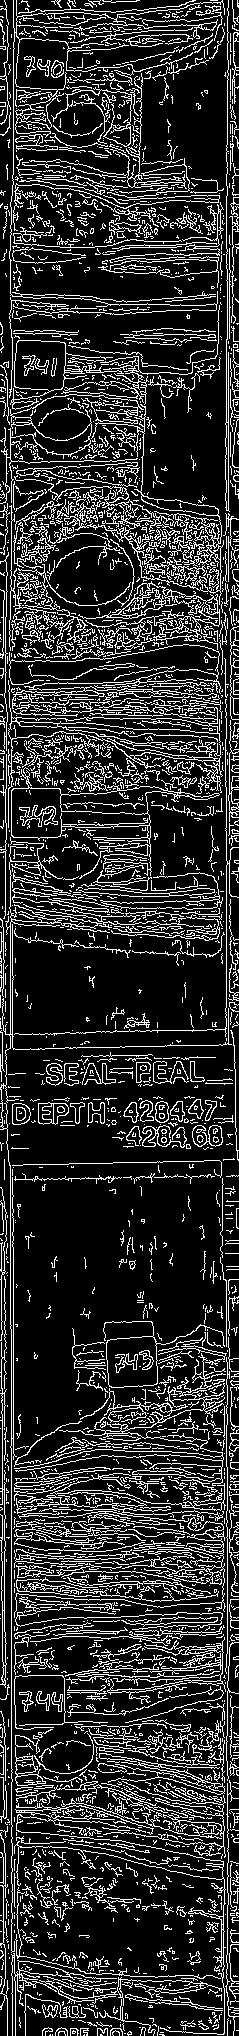hplug: (29, 1713, 101, 1798), (36, 81, 118, 156), (31, 821, 108, 900), (23, 386, 104, 456), (49, 1361, 120, 1436)
scal: (36, 523, 145, 627)
vplug: (126, 345, 216, 527), (126, 48, 212, 196), (139, 776, 220, 904), (136, 1344, 222, 1452)
